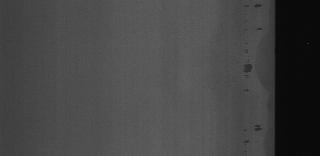oil spot: (242, 45, 254, 92), (241, 126, 251, 154), (242, 4, 250, 34), (251, 119, 263, 134), (255, 28, 265, 34), (253, 4, 263, 8)
